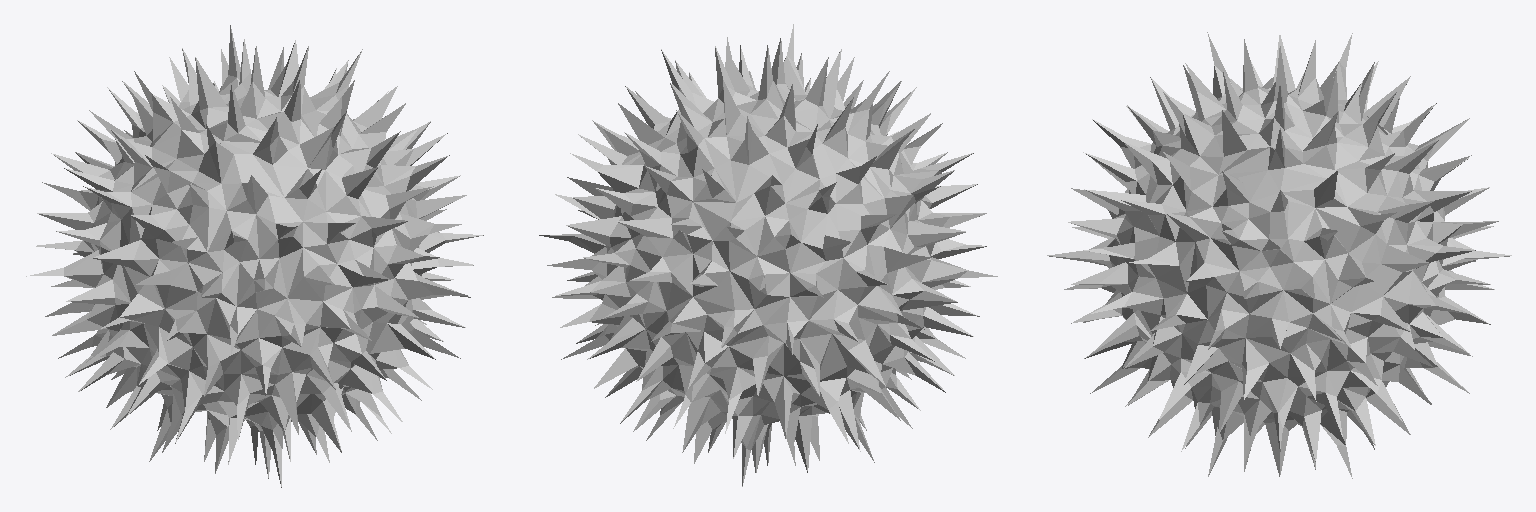
Rendered from Enemy.obj.
3 renders of one model, left to right at view 1: azimuth 30°, elevation 25°; view 2: azimuth 150°, elevation 25°; view 3: azimuth 270°, elevation 25°, orthographic.
Parts seen in each view (by area): view 1: Icosphere; view 2: Icosphere; view 3: Icosphere.
Boxes of the visible parts, box(x1,y1,x2,y2) form: Icosphere: box(26, 25, 483, 487); Icosphere: box(539, 24, 997, 486); Icosphere: box(1047, 32, 1511, 478).
Bounding box in the file's own units: 2.67 × 2.8 × 2.81.